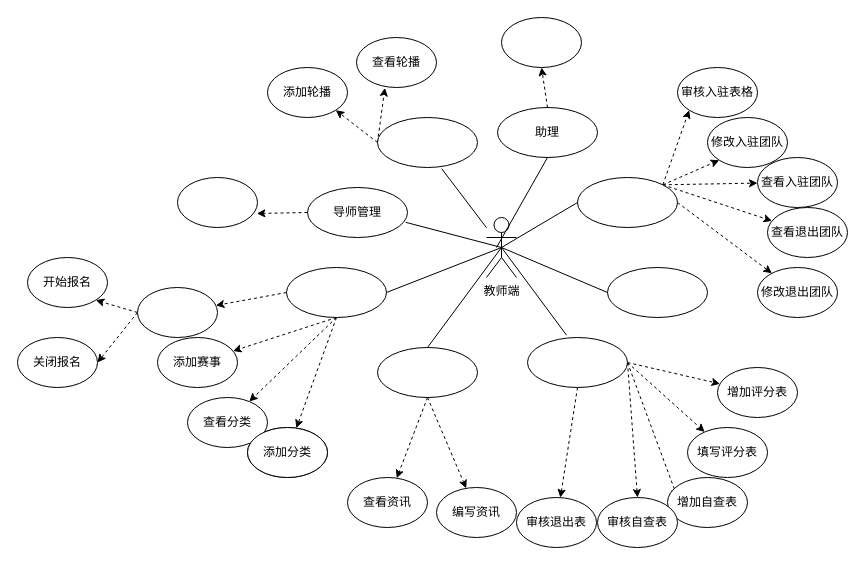
The diagram is 865 pixels wide and 565 high, and some of its shapes have lost their labels. Each missing label, with the centre of its shape:
团队管理: the point at 627,202
封面管理: the point at 427,142
录入团队: the point at 657,292
查看赛事: the point at 177,312
添加助理: the point at 541,42
添加导师: the point at 217,202
表格管理: the point at 577,362
资讯管理: the point at 427,372
赛事管理: the point at 336,292
